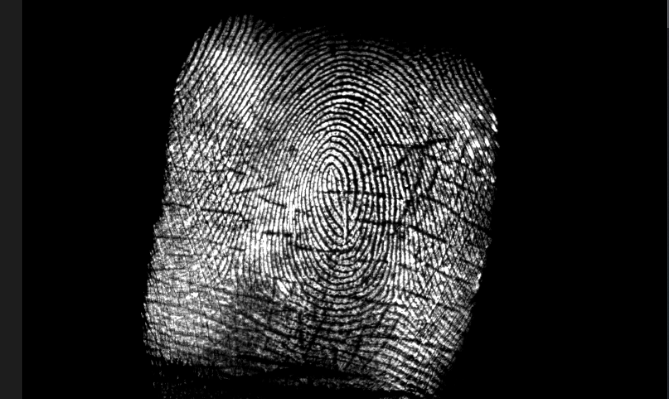nucelo: (317, 158, 350, 213)
verticilo: (382, 286, 413, 313), (212, 266, 241, 293)
